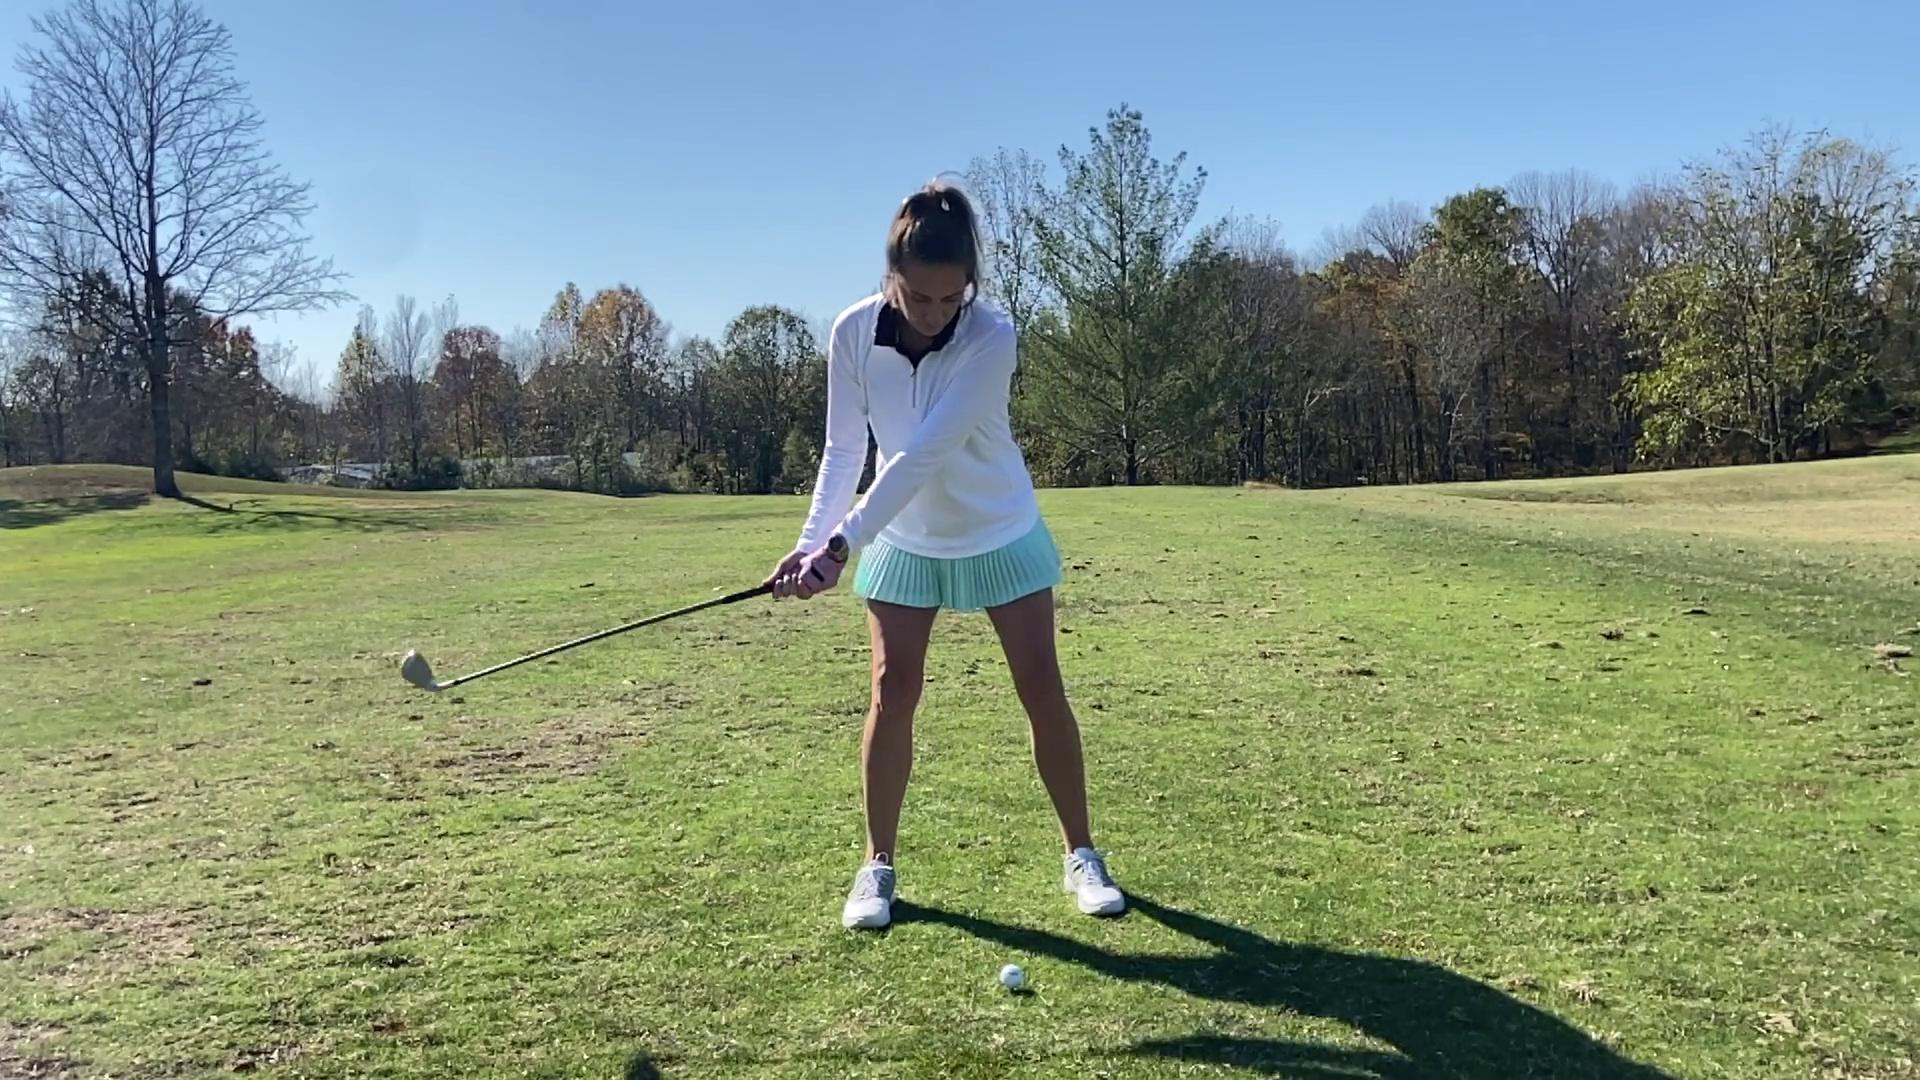ClubHead: (396, 647, 460, 699)
GolfBall: (997, 963, 1025, 993)
